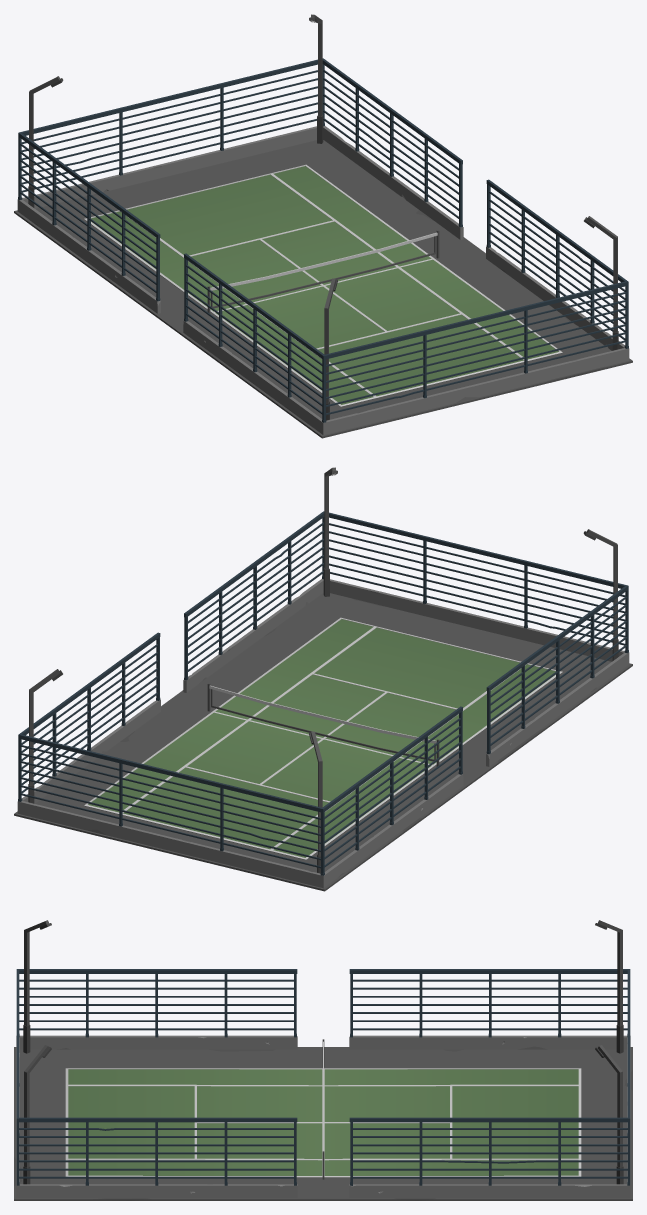
File: SM_Buildings_Tenis_01.fbx
The picture shows the model from 3 angles, top to bottom: view 1: azimuth 30°, elevation 25°; view 2: azimuth 150°, elevation 25°; view 3: azimuth 270°, elevation 25°; orthographic projection.
Visible parts, largest first — view 1: SM_Buildings_Tenis_01; view 2: SM_Buildings_Tenis_01; view 3: SM_Buildings_Tenis_01.
Part boxes in pixels (box(x1,y1,x2,y2)): SM_Buildings_Tenis_01: box(14, 14, 632, 438); SM_Buildings_Tenis_01: box(14, 467, 632, 891); SM_Buildings_Tenis_01: box(14, 920, 632, 1200).
Bounding box in the file's own units: 13.98 × 6.07 × 24.
